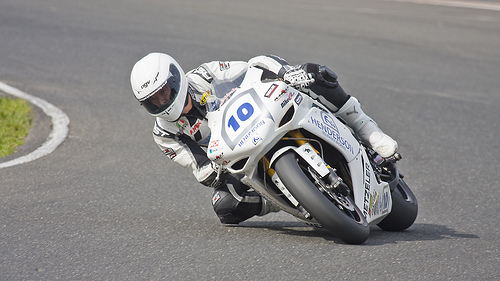helmet: (129, 55, 188, 121)
